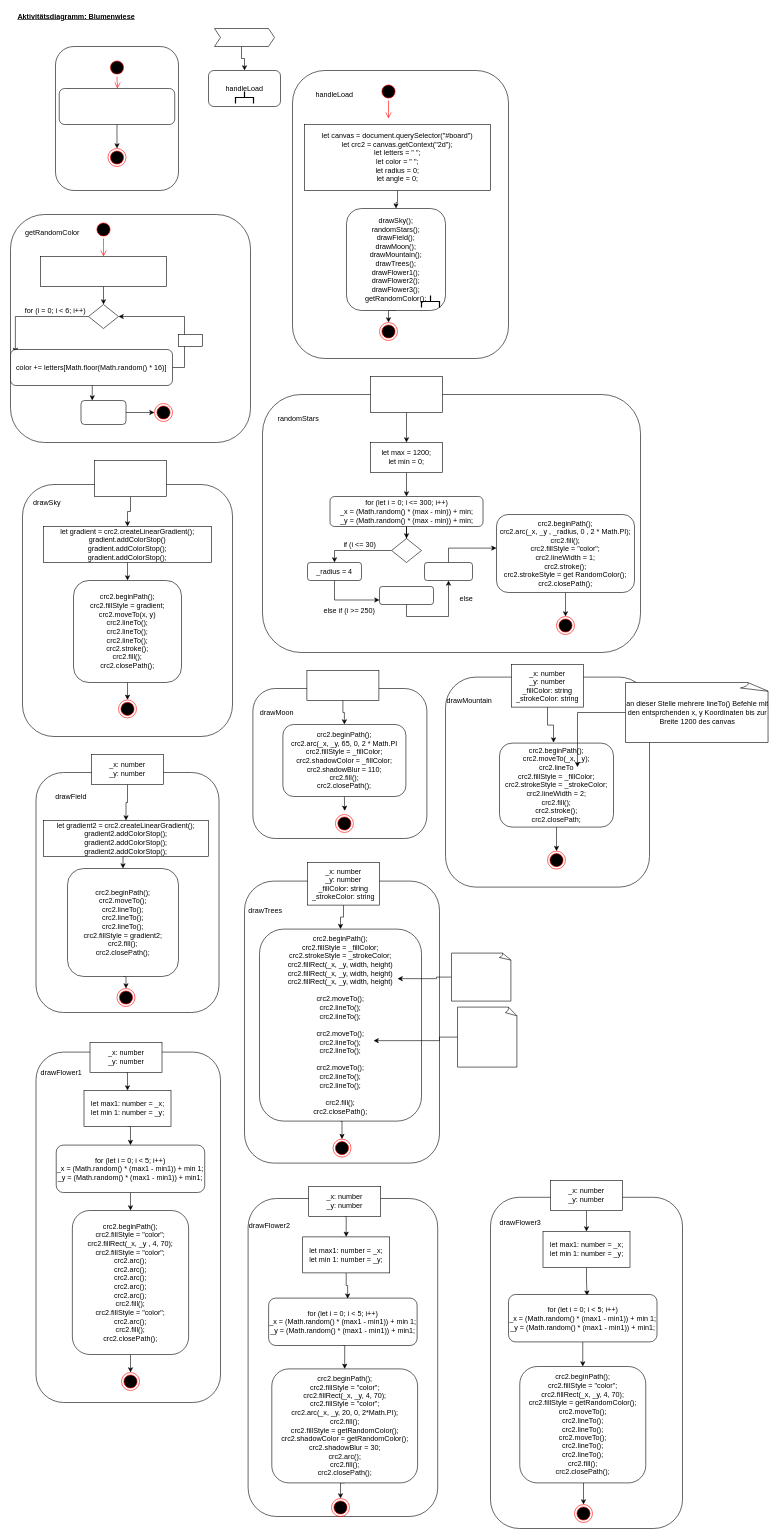
This 780x1539 diagram has some shape labels left out. Here are the shapes that lost their labels. From the top down, the centre of each, then its label:
the point at 244,37: load
the point at 117,106: install load listener: window.addEventListener("load", handleLoad);
the point at 103,271: letters = "0123456789ABCDEF" color = "#"
the point at 190,340: i ++
the point at 103,412: return color;
the point at 406,394: _x: number _y: number _radius: number
the point at 130,478: _x:number; _y:number;
the point at 448,571: _radius = 2
the point at 406,595: _radius = 3;
the point at 342,685: _x: number _y: number _fillColor: string
the point at 481,976: fillRect für den Stamm der Bäume
the point at 487,1036: erstelle jeweils 3mal drei Dreiecke für die Tannenbäume (siehe scribble)
